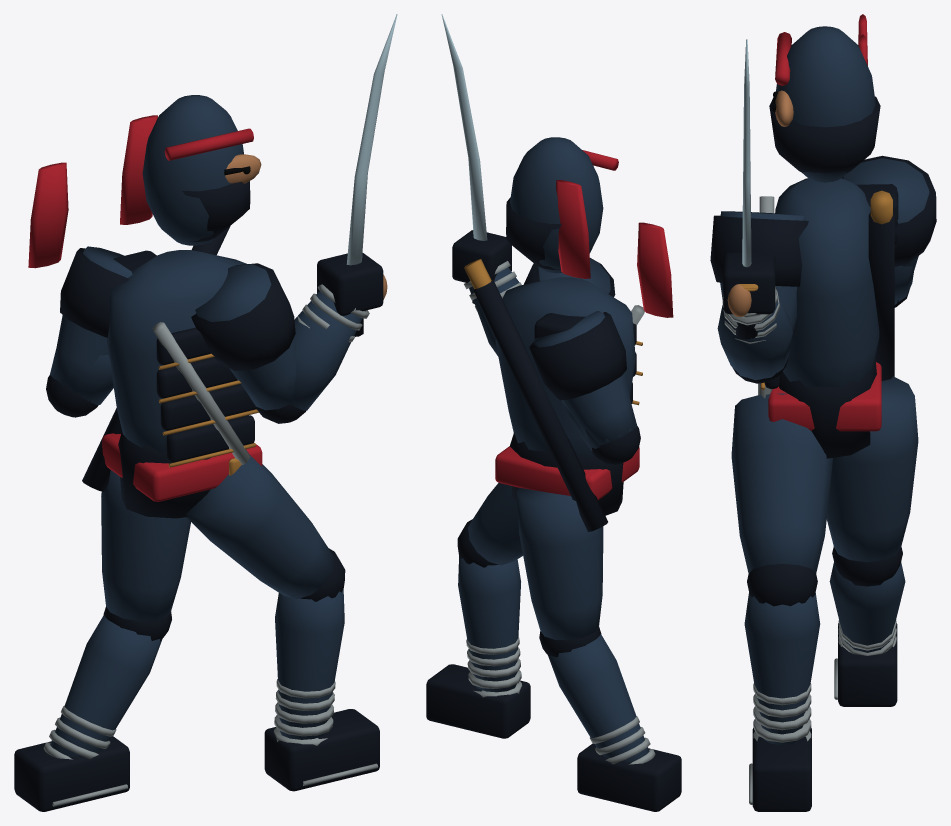
The model's file is shinobi.glb.
3 views of the same model, side by side, from view 1: azimuth 30°, elevation 25°; view 2: azimuth 150°, elevation 25°; view 3: azimuth 270°, elevation 25° (orthographic). The views are drawn at different scales.
Parts seen in each view (by area): view 1: shinobi__torso_mesh, shinobi__head_mesh, shinobi__thighF_mesh, shinobi__upperArmF_mesh, shinobi__thighB_mesh, shinobi__shinF_mesh, shinobi__shinB_mesh, shinobi__upperArmB_mesh, shinobi__footF_mesh, shinobi__footB_mesh, shinobi__forearmF_mesh, shinobi__scarfB_mesh (+5 smaller); view 2: shinobi__torso_mesh, shinobi__thighB_mesh, shinobi__upperArmB_mesh, shinobi__head_mesh, shinobi__shinF_mesh, shinobi__shinB_mesh, shinobi__footF_mesh, shinobi__footB_mesh, shinobi__thighF_mesh, shinobi__scarfB_mesh, shinobi__scarfA_mesh, shinobi__sword_mesh (+5 smaller); view 3: shinobi__torso_mesh, shinobi__thighF_mesh, shinobi__head_mesh, shinobi__thighB_mesh, shinobi__shinF_mesh, shinobi__upperArmF_mesh, shinobi__upperArmB_mesh, shinobi__shinB_mesh, shinobi__footF_mesh, shinobi__forearmF_mesh, shinobi__pelvis_mesh, shinobi__footB_mesh (+4 smaller).
Boxes of the visible parts, left/top/right/bottom form: shinobi__torso_mesh: left=82, top=226, right=262, bottom=501; shinobi__head_mesh: left=142, top=95, right=261, bottom=245; shinobi__thighF_mesh: left=186, top=455, right=345, bottom=601; shinobi__upperArmF_mesh: left=191, top=263, right=306, bottom=423; shinobi__thighB_mesh: left=101, top=470, right=190, bottom=640; shinobi__shinF_mesh: left=273, top=589, right=344, bottom=745; shinobi__shinB_mesh: left=43, top=615, right=162, bottom=759; shinobi__upperArmB_mesh: left=46, top=246, right=132, bottom=417; shinobi__footF_mesh: left=264, top=709, right=379, bottom=791; shinobi__footB_mesh: left=14, top=736, right=129, bottom=811; shinobi__forearmF_mesh: left=290, top=284, right=369, bottom=410; shinobi__scarfB_mesh: left=28, top=162, right=68, bottom=268; shinobi__torso_mesh: left=464, top=259, right=644, bottom=531; shinobi__thighB_mesh: left=516, top=487, right=603, bottom=657; shinobi__upperArmB_mesh: left=529, top=311, right=640, bottom=464; shinobi__head_mesh: left=506, top=137, right=618, bottom=273; shinobi__shinF_mesh: left=458, top=556, right=522, bottom=697; shinobi__shinB_mesh: left=548, top=634, right=655, bottom=764; shinobi__footF_mesh: left=426, top=664, right=530, bottom=738; shinobi__footB_mesh: left=577, top=743, right=681, bottom=811; shinobi__thighF_mesh: left=457, top=483, right=522, bottom=567; shinobi__scarfB_mesh: left=637, top=222, right=673, bottom=317; shinobi__scarfA_mesh: left=556, top=180, right=590, bottom=278; shinobi__sword_mesh: left=441, top=14, right=487, bottom=303; shinobi__torso_mesh: left=758, top=178, right=894, bottom=431; shinobi__thighF_mesh: left=731, top=393, right=832, bottom=606; shinobi__head_mesh: left=769, top=26, right=880, bottom=182; shinobi__thighB_mesh: left=826, top=376, right=918, bottom=586; shinobi__shinF_mesh: left=744, top=592, right=820, bottom=745; shinobi__upperArmF_mesh: left=710, top=211, right=808, bottom=383; shinobi__upperArmB_mesh: left=841, top=155, right=936, bottom=307; shinobi__shinB_mesh: left=829, top=562, right=905, bottom=655; shinobi__footF_mesh: left=749, top=728, right=811, bottom=811; shinobi__forearmF_mesh: left=717, top=286, right=792, bottom=380; shinobi__pelvis_mesh: left=778, top=358, right=876, bottom=458; shinobi__footB_mesh: left=834, top=623, right=897, bottom=706.
Bounding box in the file's own units: 1.57 × 3.64 × 0.9552.
